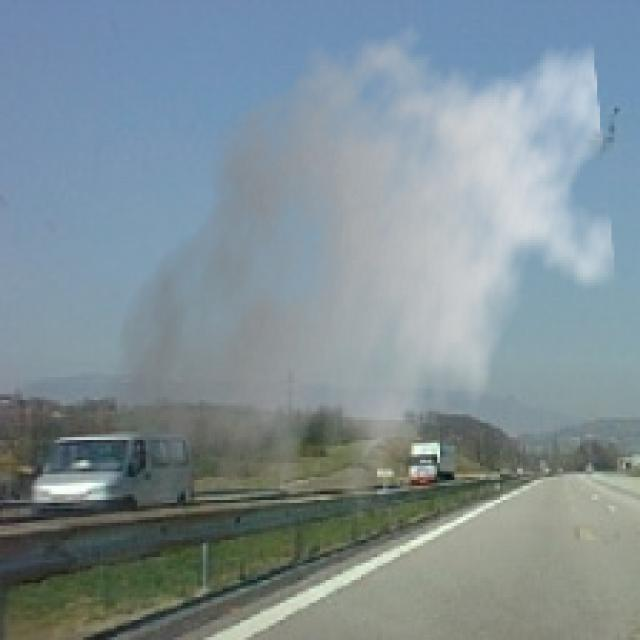Smoke: (102, 6, 618, 560)
